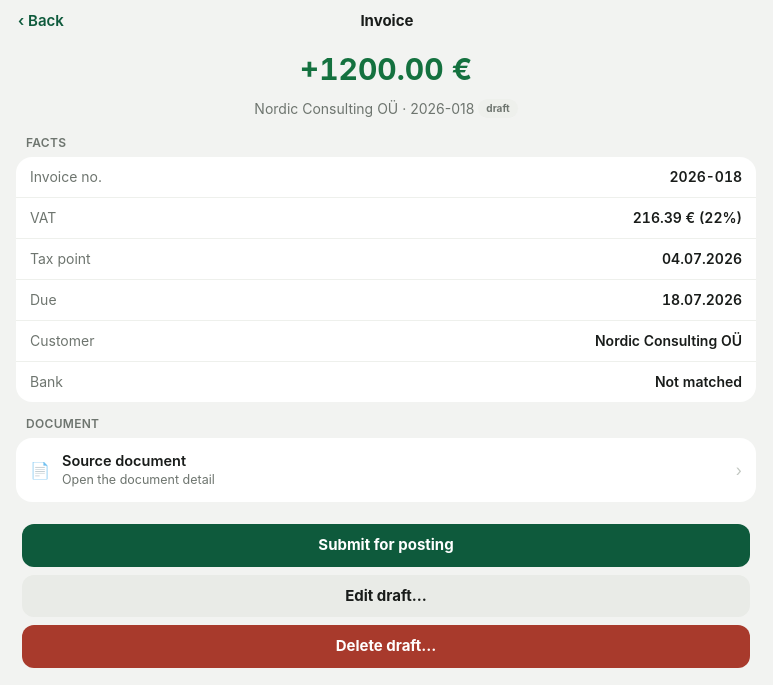
it: InvoiceScreen › auto-post success renders the POSTED toast (a posted-rendered-as-held regression must fail this)
Click the button "Submit for posting": (386, 545) [22,524,750,566]
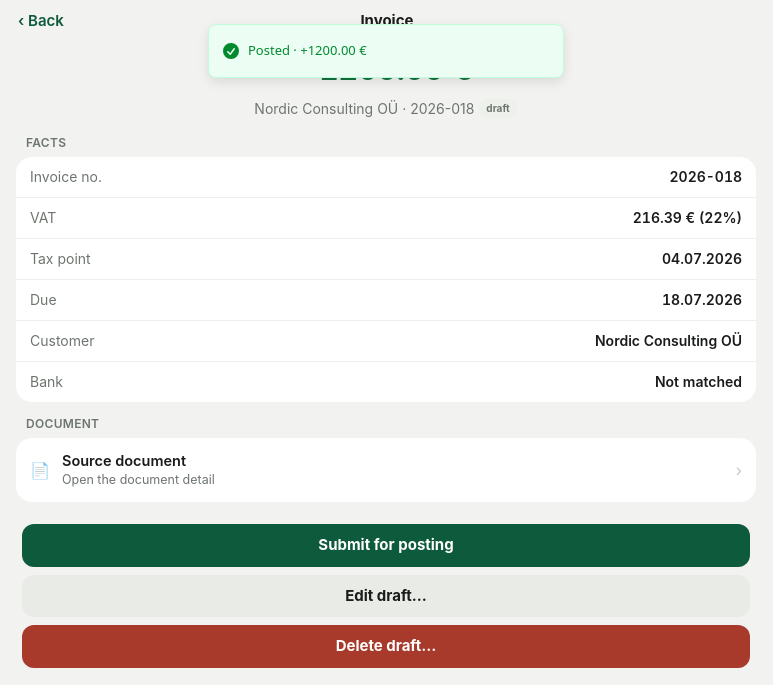
Expected: the text "Posted · +1200.00 €" is shown, [248,41,367,60]
